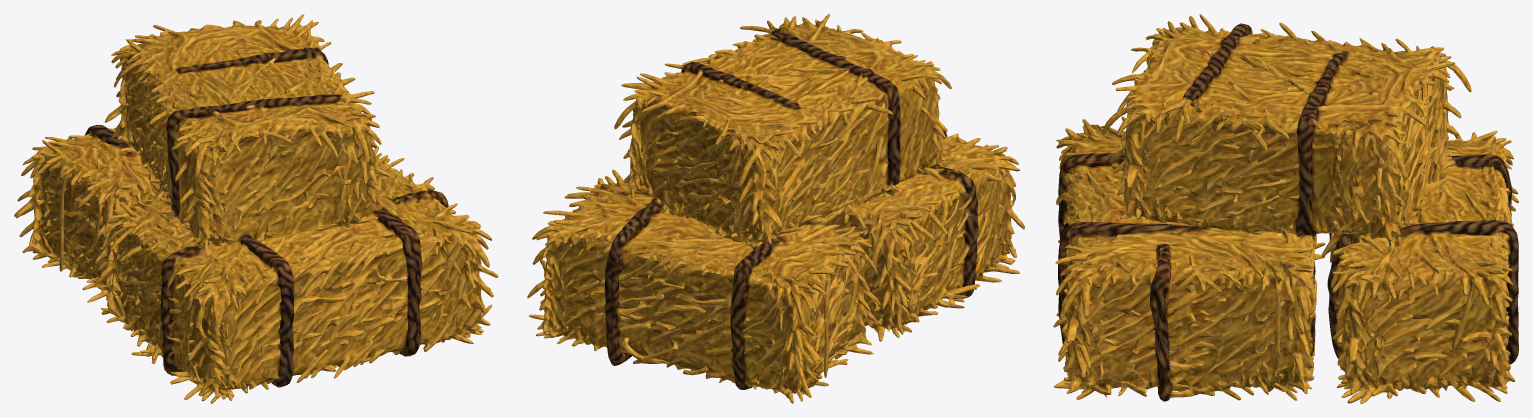
Rendered from hayBales.glb.
The picture shows the model from 3 angles, left to right: view 1: azimuth 30°, elevation 25°; view 2: azimuth 150°, elevation 25°; view 3: azimuth 270°, elevation 25°; orthographic projection. The views are drawn at different scales.
Parts seen in each view (by area): view 1: geometry_0; view 2: geometry_0; view 3: geometry_0.
Part boxes in pixels (x1,y1,x2,y2): geometry_0: (14,14,498,403); geometry_0: (527,14,1024,403); geometry_0: (1053,14,1518,403).
Size of the model in its own units: 0.8735 by 0.6321 by 1.
1 material, 1 textured.
